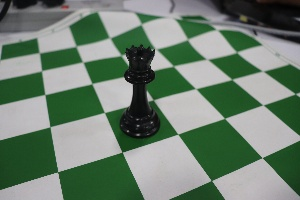black_queen: (113, 34, 163, 144)
